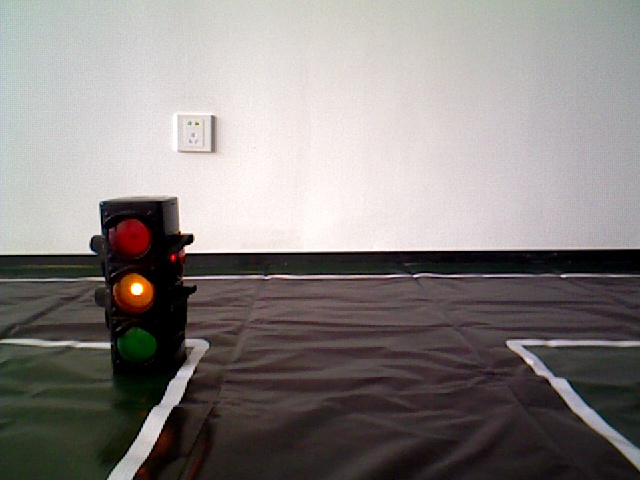yellow: (98, 198, 189, 368)
